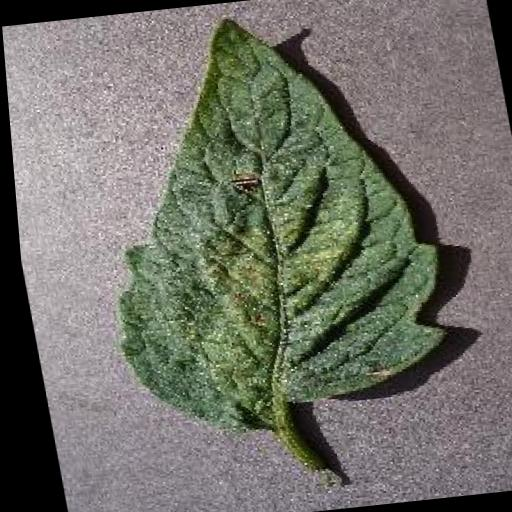Spider Mites: (59, 0, 456, 438)
